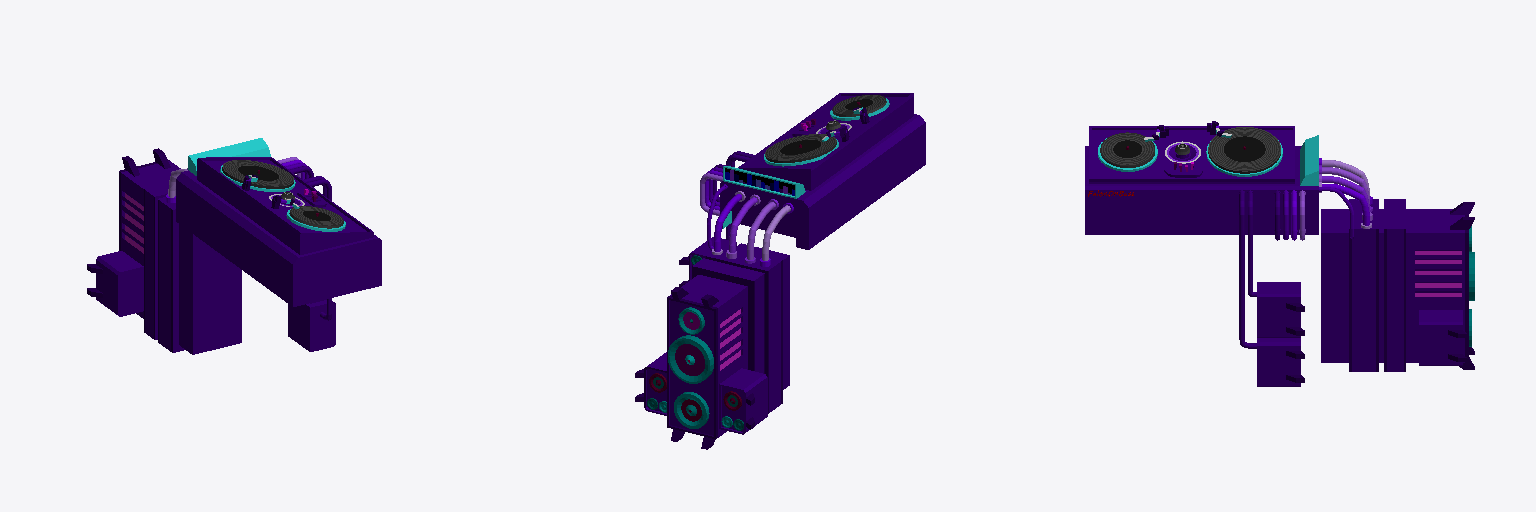
Rendered from bass_cannon.obj.
The picture shows the model from 3 angles: view 1: azimuth 30°, elevation 25°; view 2: azimuth 150°, elevation 25°; view 3: azimuth 270°, elevation 25°; orthographic projection.
Visible parts, largest first — view 1: Mesh32, Mesh31, Mesh36, Mesh09, Mesh10; view 2: Mesh31, Mesh32, Group24, Mesh09, Group30, Mesh10, Group28; view 3: Mesh31, Mesh32, Mesh09, Mesh38, Mesh36, Mesh10, Group6, Group20.
Part boxes in pixels (bbox=[...]): Mesh32: bbox=[176, 138, 381, 306]; Mesh31: bbox=[96, 148, 241, 354]; Mesh36: bbox=[288, 300, 335, 351]; Mesh09: bbox=[220, 160, 295, 191]; Mesh10: bbox=[286, 206, 345, 231]; Mesh31: bbox=[644, 243, 789, 449]; Mesh32: bbox=[700, 93, 925, 249]; Group24: bbox=[668, 335, 713, 383]; Mesh09: bbox=[764, 134, 838, 166]; Group30: bbox=[674, 392, 709, 428]; Mesh10: bbox=[830, 95, 889, 120]; Group28: bbox=[678, 307, 704, 334]; Mesh31: bbox=[1321, 199, 1474, 371]; Mesh32: bbox=[1085, 126, 1318, 240]; Mesh09: bbox=[1206, 127, 1282, 176]; Mesh38: bbox=[1257, 282, 1300, 337]; Mesh36: bbox=[1257, 338, 1300, 386]; Mesh10: bbox=[1098, 132, 1157, 171]; Group6: bbox=[1239, 190, 1256, 348]; Group20: bbox=[1247, 190, 1256, 296].
Bounding box in the file's own units: 0.6399 × 0.9144 × 1.42.